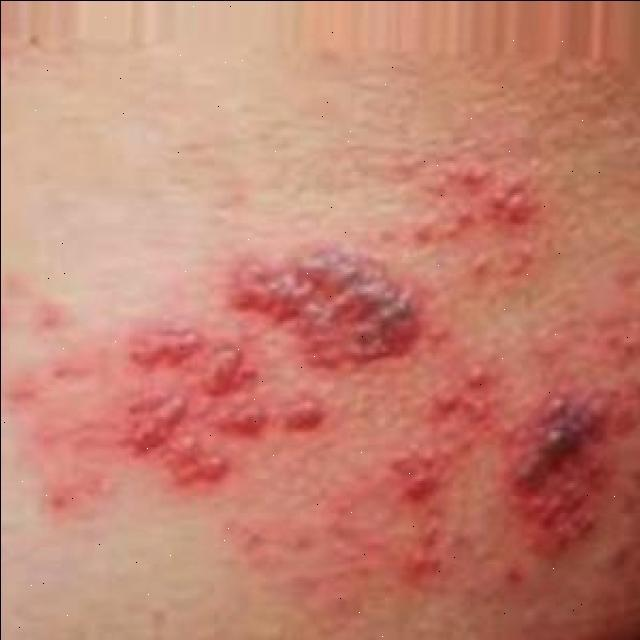Shingles: (115, 328, 326, 490), (394, 359, 506, 586), (226, 240, 414, 368), (512, 389, 618, 559), (425, 159, 541, 282)
